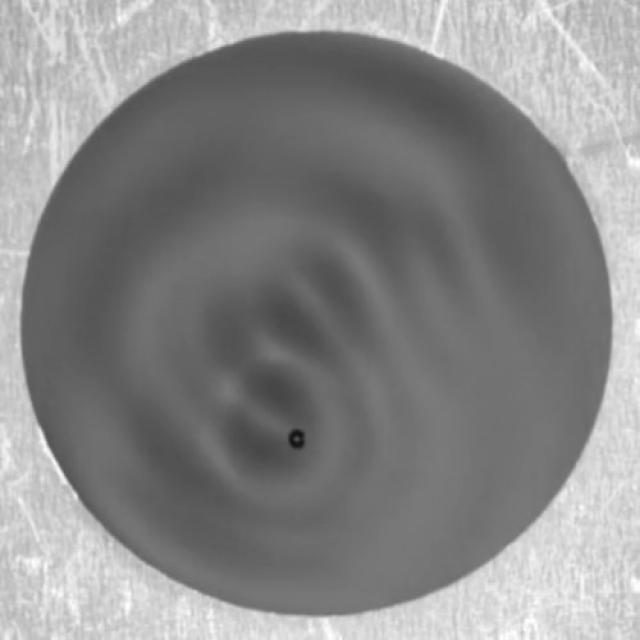droplet: (289, 428, 307, 449)
